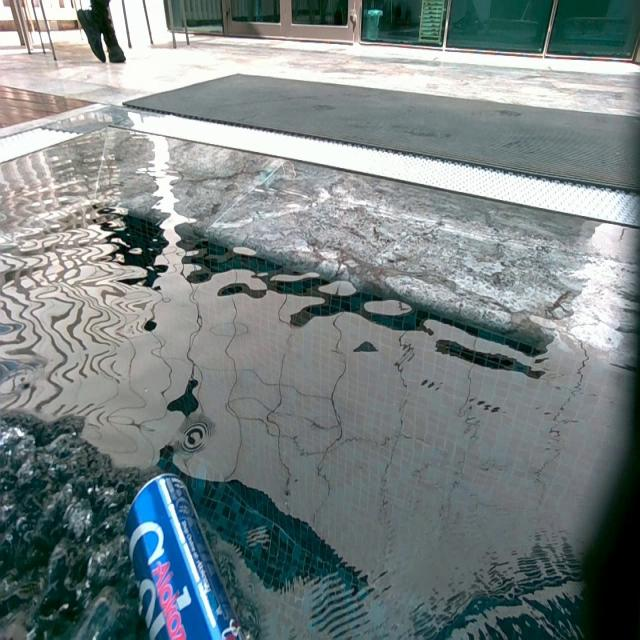Cans: (125, 474, 246, 640)
